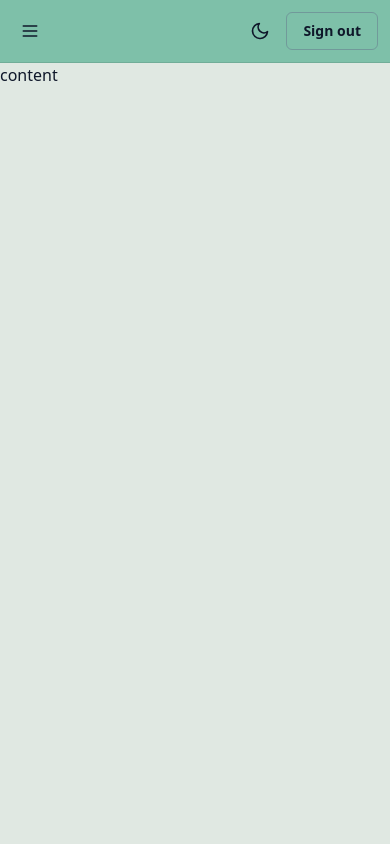
Test: navigation › opens the mobile menu
Click the button named "Menu": (30, 31) [12, 13, 48, 49]
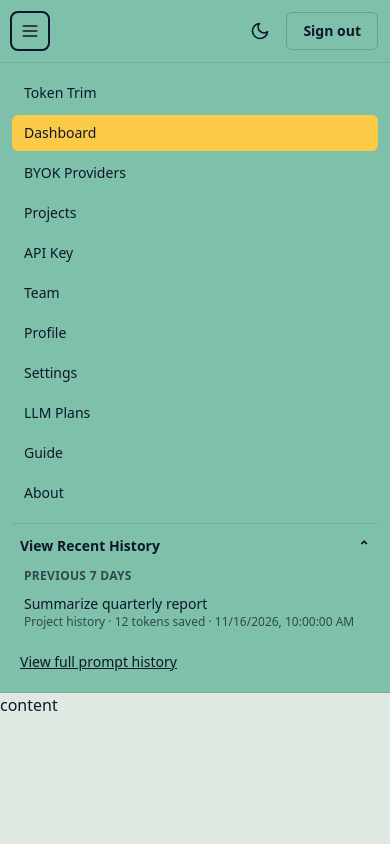
Result: the link "Dashboard" is shown at [12, 115, 378, 151]
